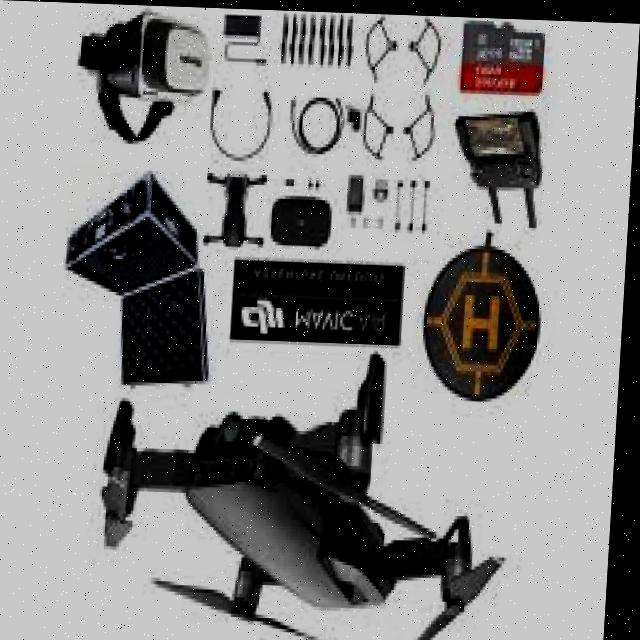drone: (87, 329, 530, 640)
